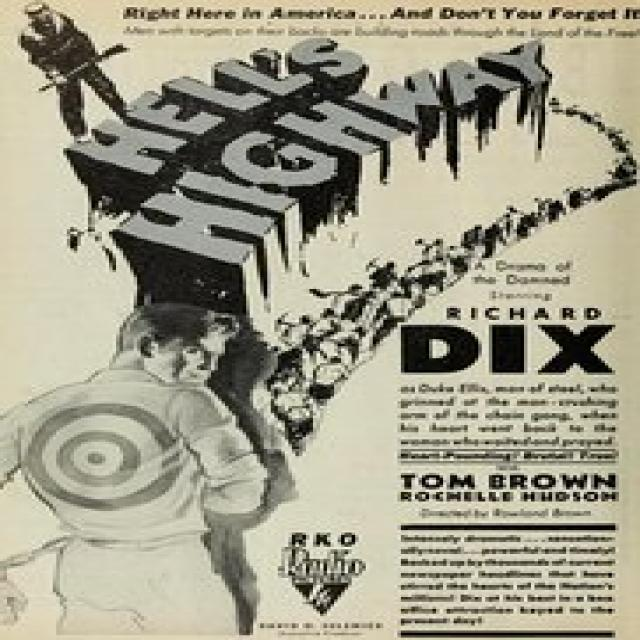movie-judul: (63, 35, 556, 325)
picture: (11, 304, 284, 640)
